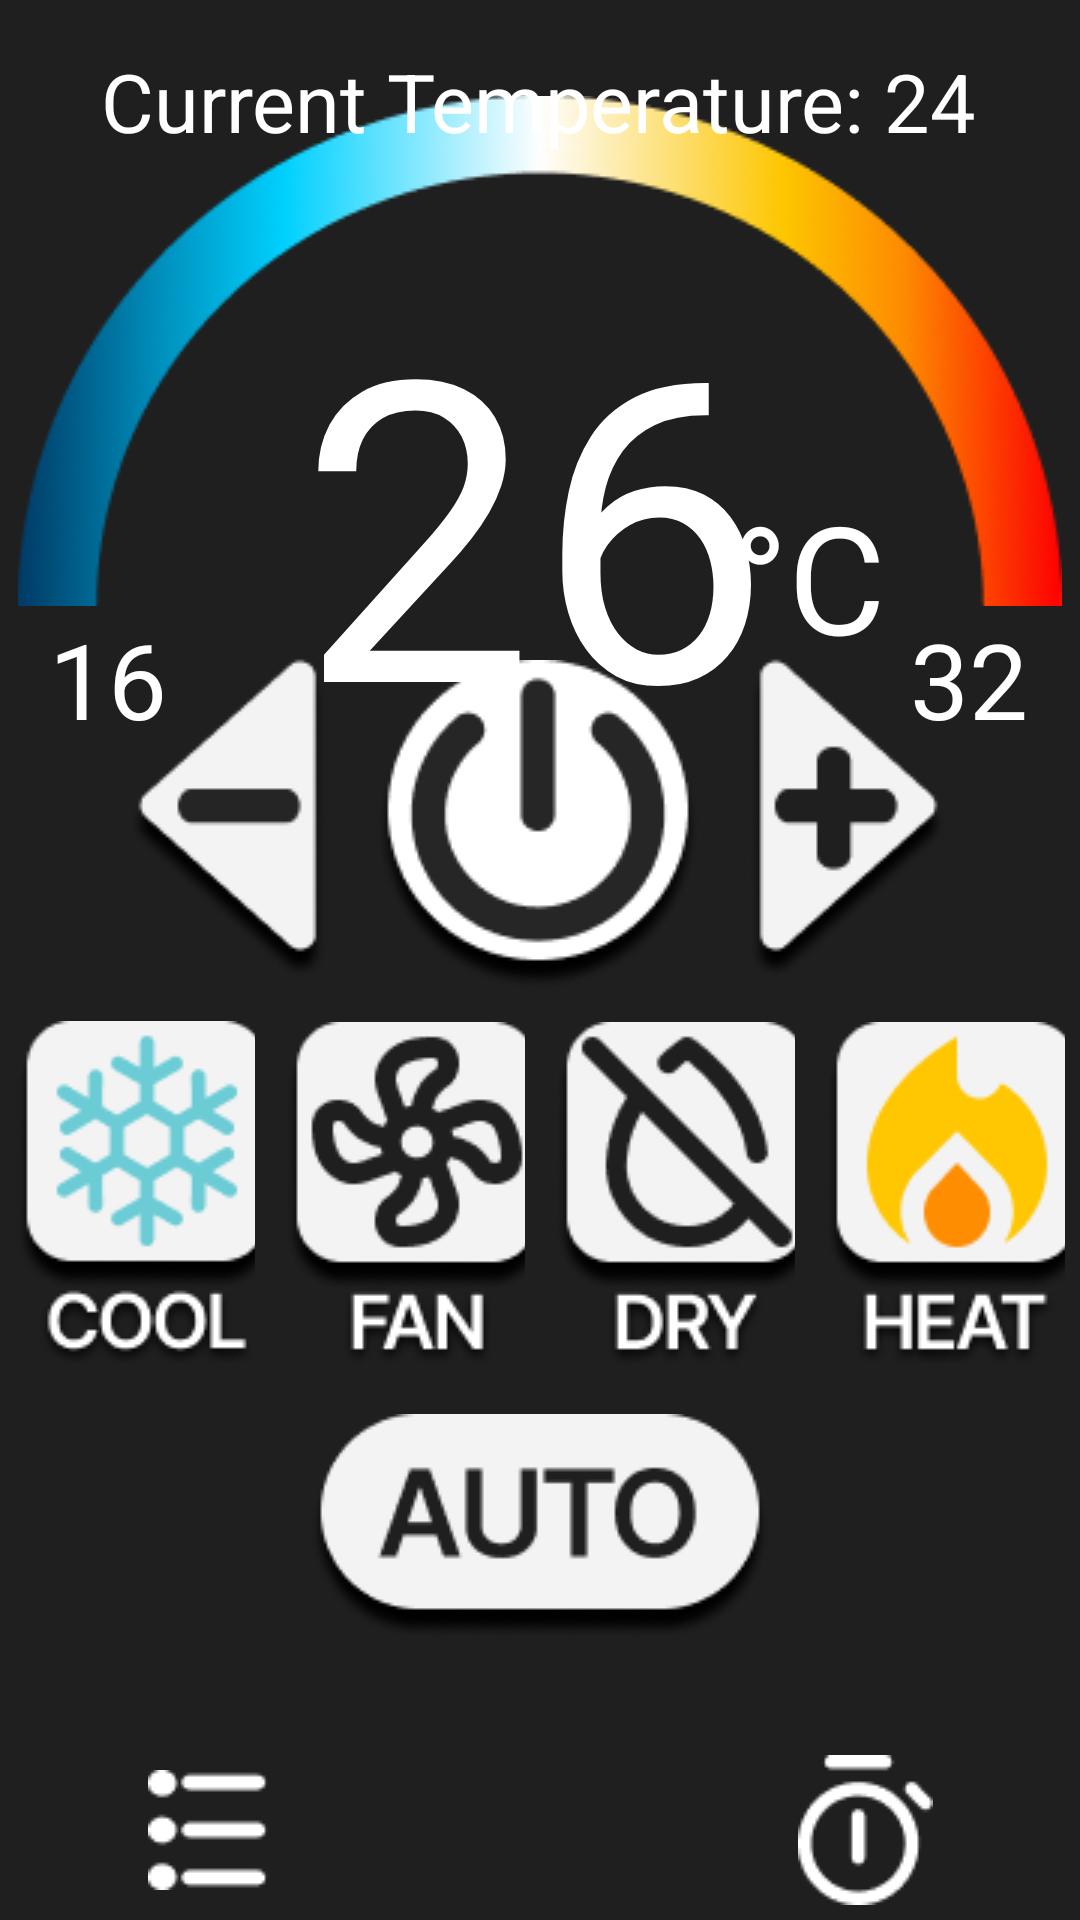

Icons on this 1080 × 1920 Android screen, each with its box as region(x1, y1, x2, y2):
minus: region(138, 659, 317, 962)
more: region(148, 1770, 266, 1890)
plus: region(759, 659, 938, 962)
timer: region(798, 1755, 933, 1905)
toggle: region(376, 660, 700, 973)
